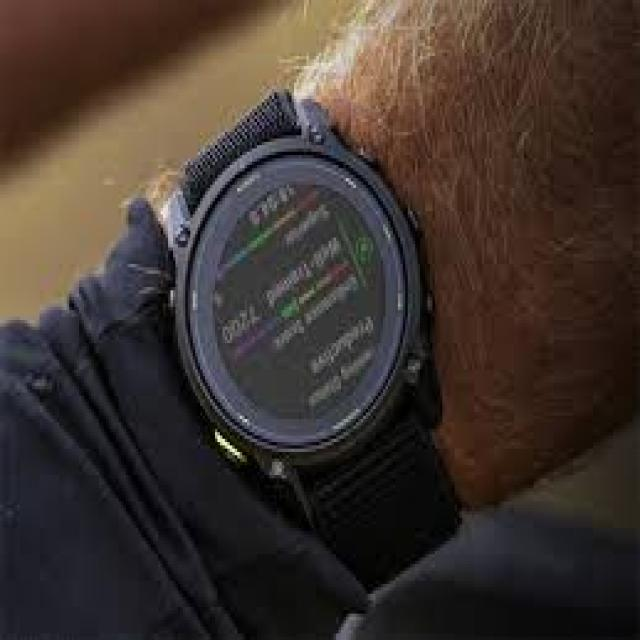objects: (164, 92, 457, 584), (188, 158, 403, 439)
